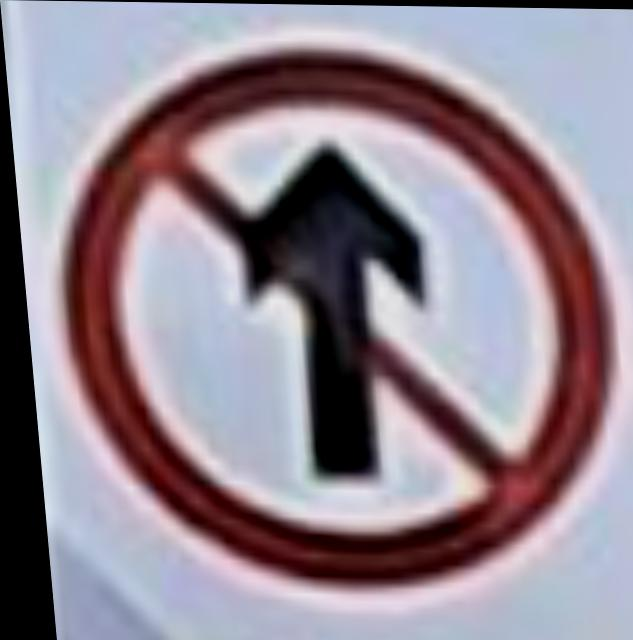not_go_straight: (35, 14, 629, 599)
